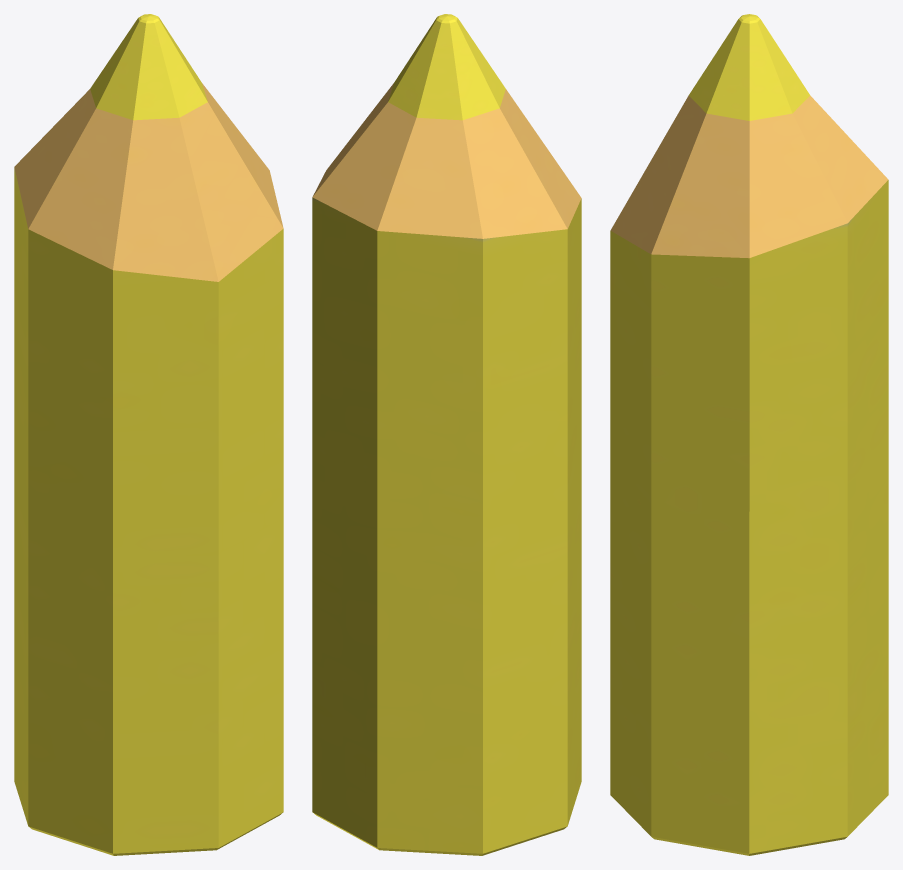
File: PenSmall_3.fbx
3 views of the same model, side by side, from view 1: azimuth 30°, elevation 25°; view 2: azimuth 150°, elevation 25°; view 3: azimuth 270°, elevation 25° (orthographic).
Parts seen in each view (by area): view 1: Cylinder.006; view 2: Cylinder.006; view 3: Cylinder.006.
Part boxes in pixels (<box>): Cylinder.006: <box>14,14,283,855</box>; Cylinder.006: <box>312,14,581,855</box>; Cylinder.006: <box>610,14,888,855</box>.
Size of the model in its own units: 129 by 400 by 129.
